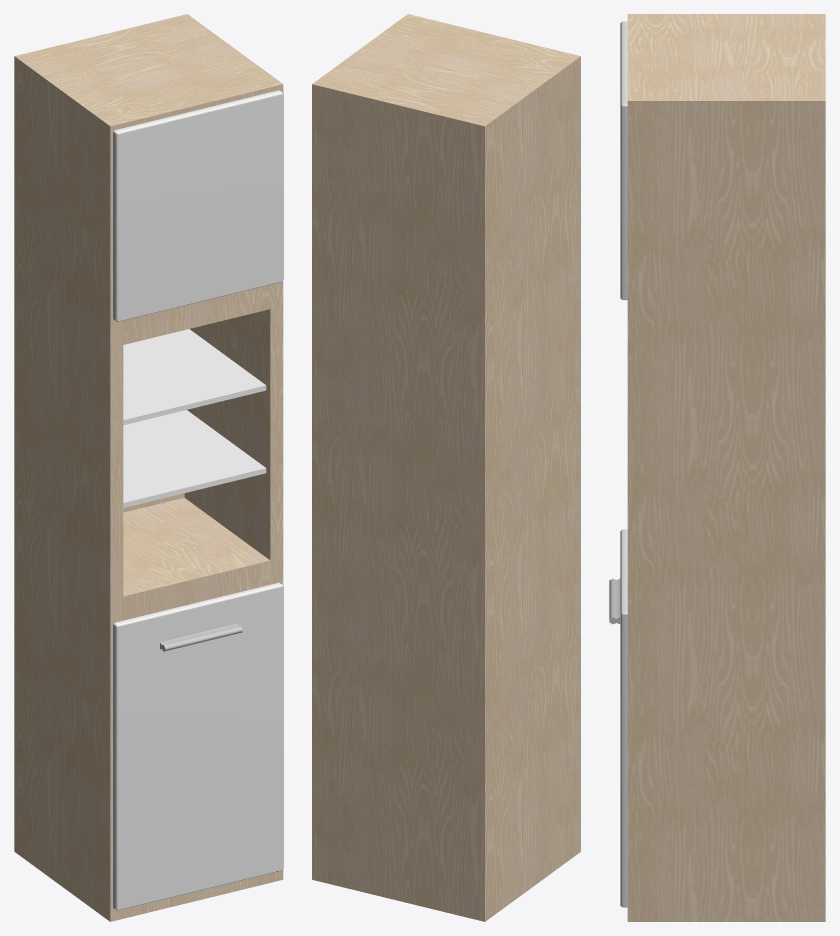
Rendered from wall_cabinet_020.fbx.
3 views of the same model, side by side, from view 1: azimuth 30°, elevation 25°; view 2: azimuth 150°, elevation 25°; view 3: azimuth 270°, elevation 25° (orthographic). The views are drawn at different scales.
Visible parts, largest first — view 1: wall_cabinet_020; view 2: wall_cabinet_020; view 3: wall_cabinet_020.
Part boxes in pixels (box(x1,y1,x2,y2)): wall_cabinet_020: box(14, 14, 283, 921); wall_cabinet_020: box(312, 14, 580, 921); wall_cabinet_020: box(609, 14, 825, 921).
Size of the model in its own units: 73.76 by 77.34 by 324.
